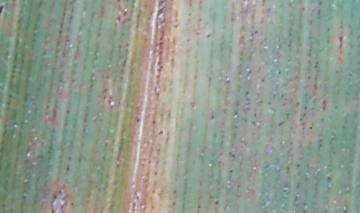tarspot: (277, 119, 288, 129), (337, 35, 344, 50), (121, 7, 130, 17), (321, 98, 327, 112), (209, 110, 216, 121), (114, 14, 122, 23), (212, 199, 220, 208), (1, 3, 6, 17), (313, 59, 320, 69), (134, 116, 141, 125), (157, 129, 165, 136), (316, 7, 322, 16), (303, 103, 309, 112), (64, 165, 71, 172), (204, 32, 211, 39), (275, 69, 282, 76), (151, 118, 157, 126), (226, 168, 234, 174), (317, 1, 325, 7), (244, 89, 250, 97), (224, 77, 230, 85), (307, 125, 314, 131), (294, 162, 301, 168), (325, 174, 331, 181), (306, 73, 311, 81), (259, 77, 265, 82), (230, 153, 236, 158)
